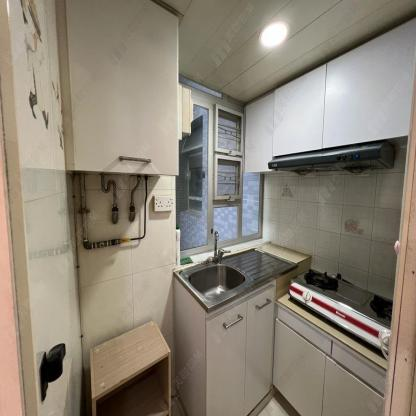Cupboard: (241, 20, 414, 173), (204, 284, 386, 415), (65, 1, 178, 177)
Exhaust Hood: (268, 140, 397, 177)
Faucet: (209, 227, 224, 262)
Sink: (176, 248, 295, 306)
Stove: (288, 267, 393, 360)
